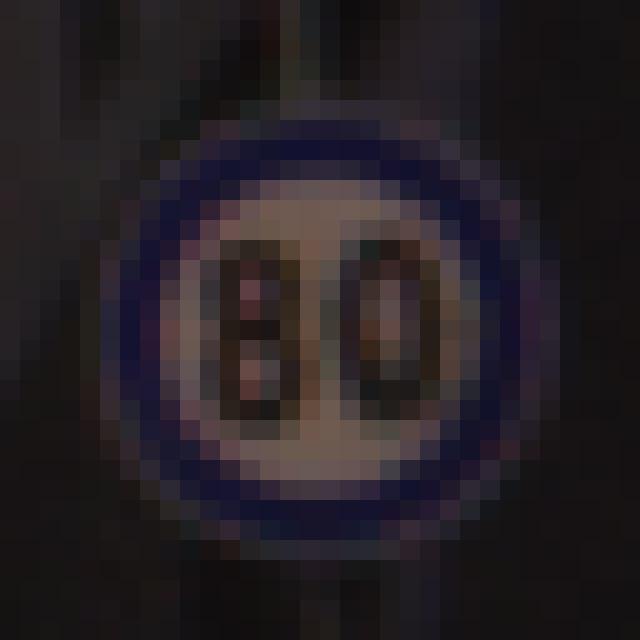SPEED-LIMIT-80: (94, 117, 540, 543)
